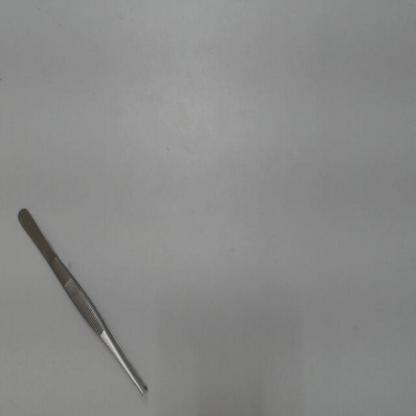Gillies Toothed Dissector: (9, 195, 158, 406)
